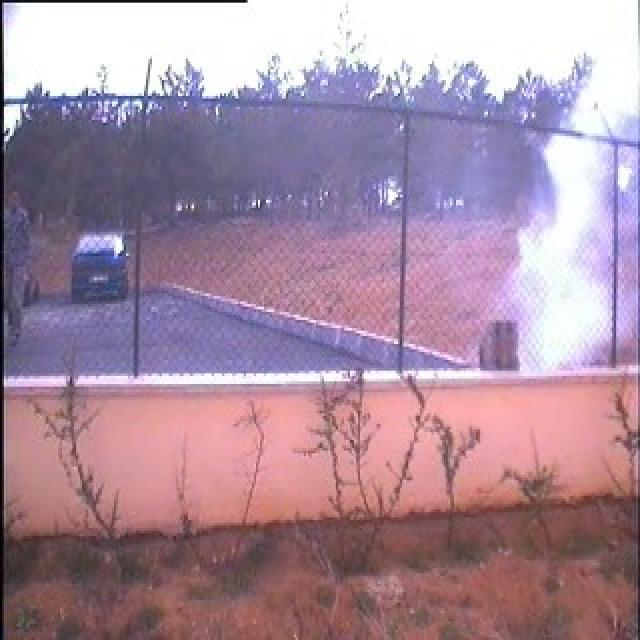Smoke: (508, 132, 616, 372)
